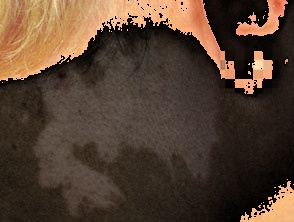vitiligo: (0, 0, 259, 222)
